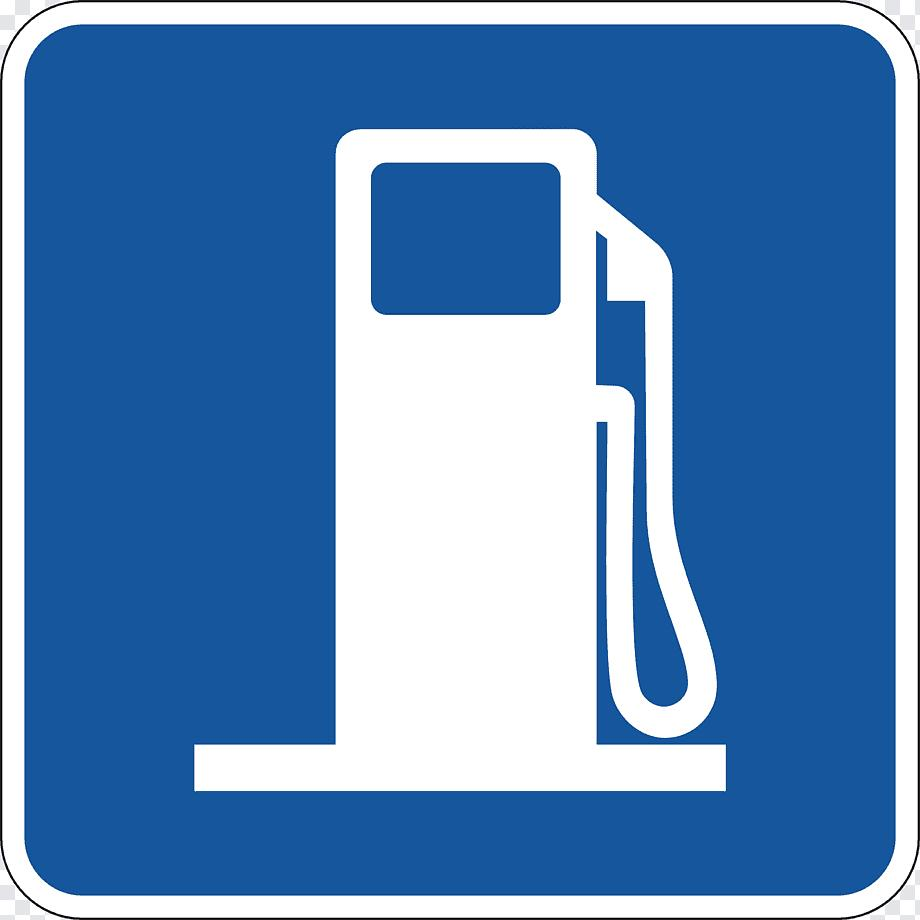Petrol Pump- Gas Station: (28, 50, 837, 847)
